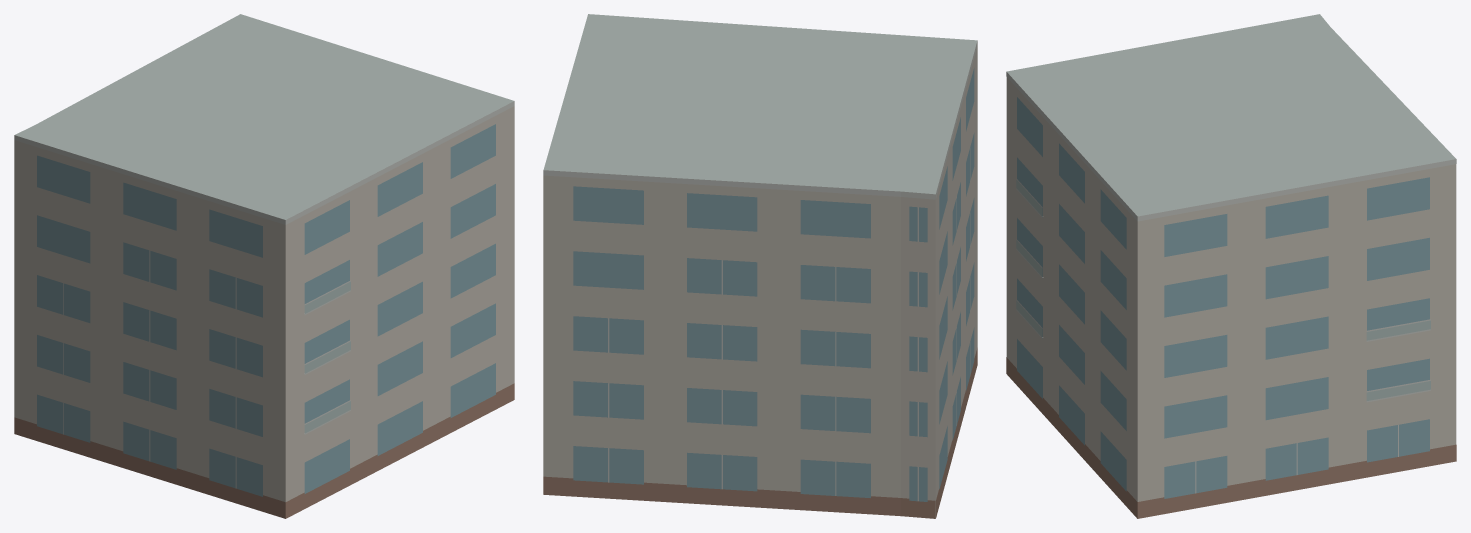
The model's file is survey-upis-32960071.glb.
3 renders of one model, left to right at view 1: azimuth 30°, elevation 25°; view 2: azimuth 150°, elevation 25°; view 3: azimuth 270°, elevation 25°, orthographic. The views are drawn at different scales.
Visible parts, largest first — view 1: survey-upis-32960071.tmp; view 2: survey-upis-32960071.tmp; view 3: survey-upis-32960071.tmp.
Part boxes in pixels (box(x1,y1,x2,y2)): survey-upis-32960071.tmp: box(14, 14, 514, 518); survey-upis-32960071.tmp: box(543, 14, 977, 518); survey-upis-32960071.tmp: box(1006, 14, 1456, 518).
Size of the model in its own units: 21.12 by 14.7 by 19.84.
